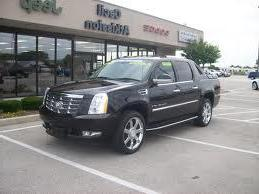Car: (30, 56, 228, 160)
